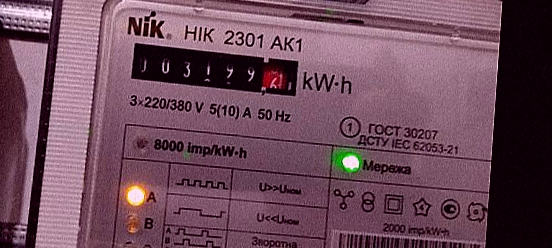0: (135, 53, 148, 74), (158, 54, 171, 75)
1: (202, 57, 213, 77)
3: (180, 59, 192, 78)
6: (268, 74, 279, 91)
9: (223, 60, 235, 80), (244, 63, 256, 83)
screen: (123, 38, 308, 104)
